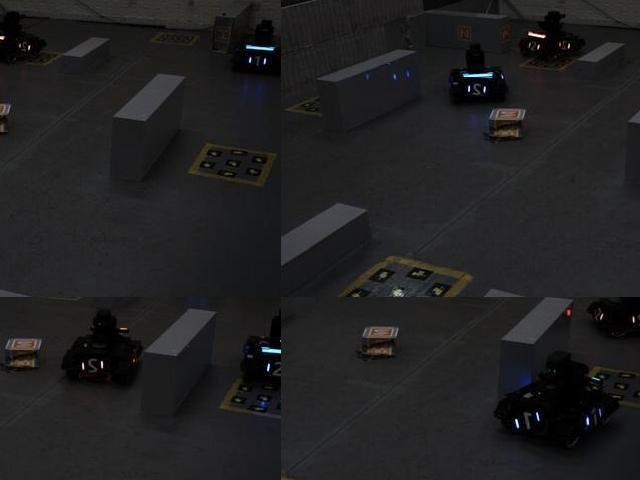armor: (512, 408, 547, 437), (462, 77, 495, 100), (79, 355, 109, 380), (577, 407, 607, 431), (259, 357, 280, 382), (243, 52, 270, 70), (588, 303, 607, 327), (524, 36, 544, 54), (17, 37, 35, 55), (557, 37, 576, 53), (629, 310, 639, 332)
